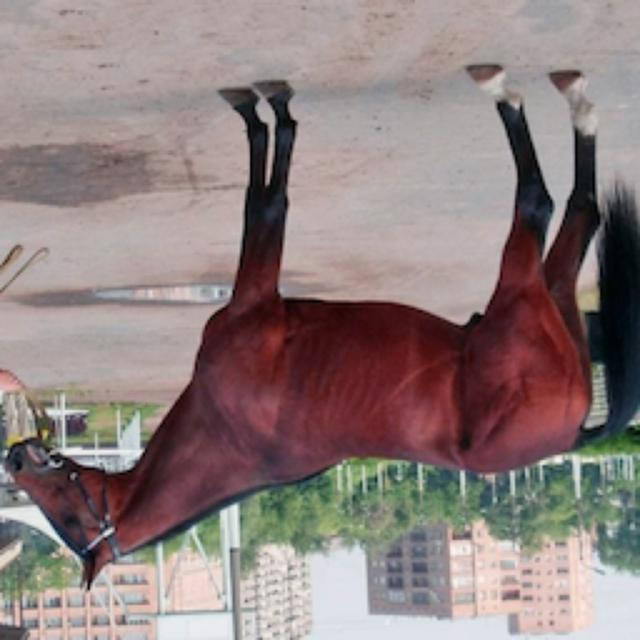Horse: (0, 60, 638, 598)
